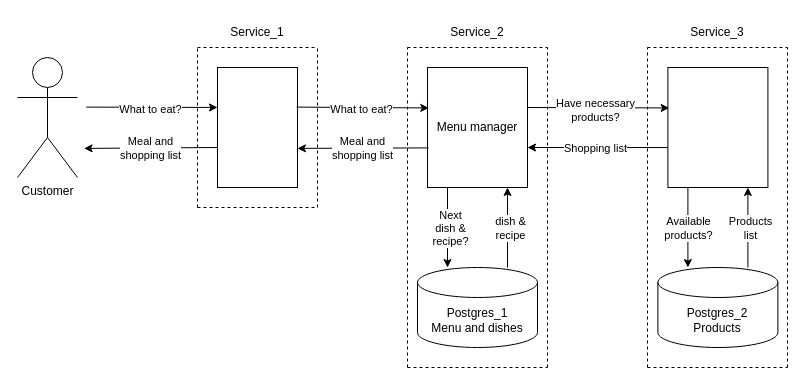
Some shapes in this 806 by 386 pixel diagram are drawn without their labels. Each missing label, with the centre of its shape:
Barn manager: pixel 717 127
telegram bot: pixel 257 127
